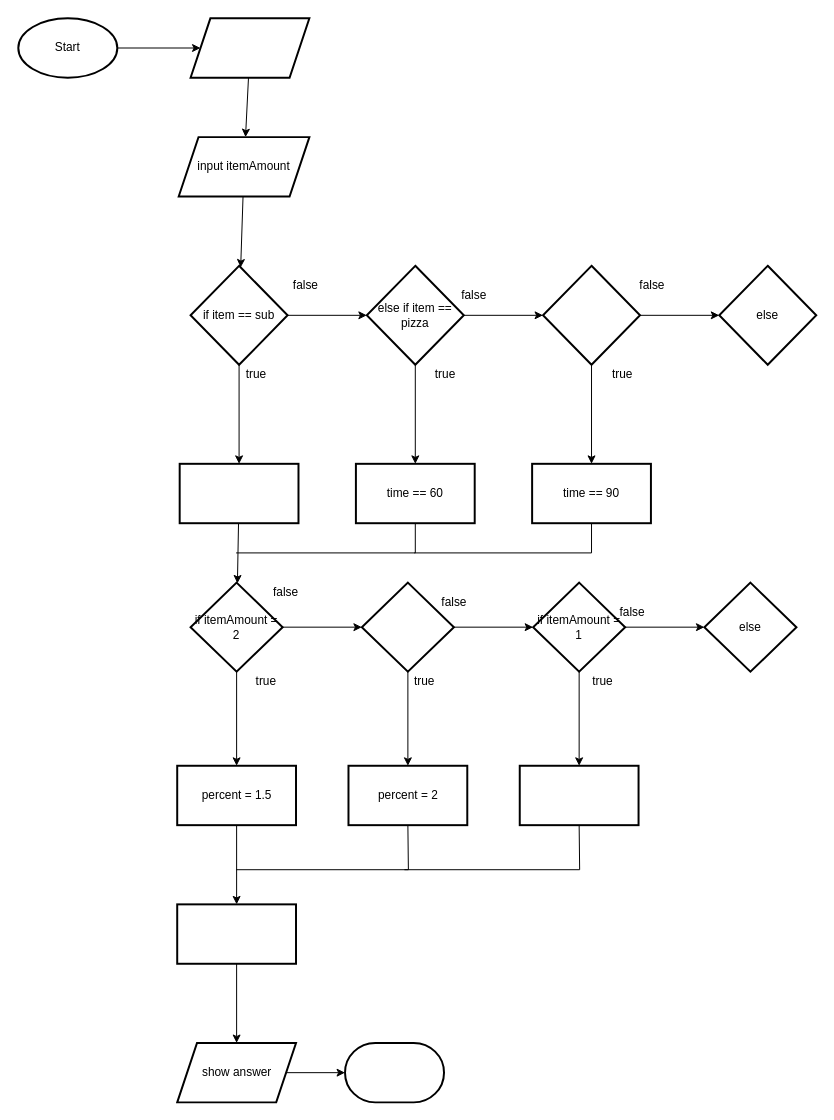
The diagram is 834 pixels wide and 1120 high, and some of its shapes have lost their labels. Here are the shapes that lost their labels. From the top down, the box of each, then its label:
(189, 17, 310, 78): input itemType
(542, 264, 641, 365): else if item == soup
(178, 462, 299, 524): time == 45
(360, 581, 454, 672): if itemAmount = 3
(518, 764, 639, 826): percent = 1
(176, 903, 297, 964): answer = time * percent
(344, 1041, 445, 1103): End
